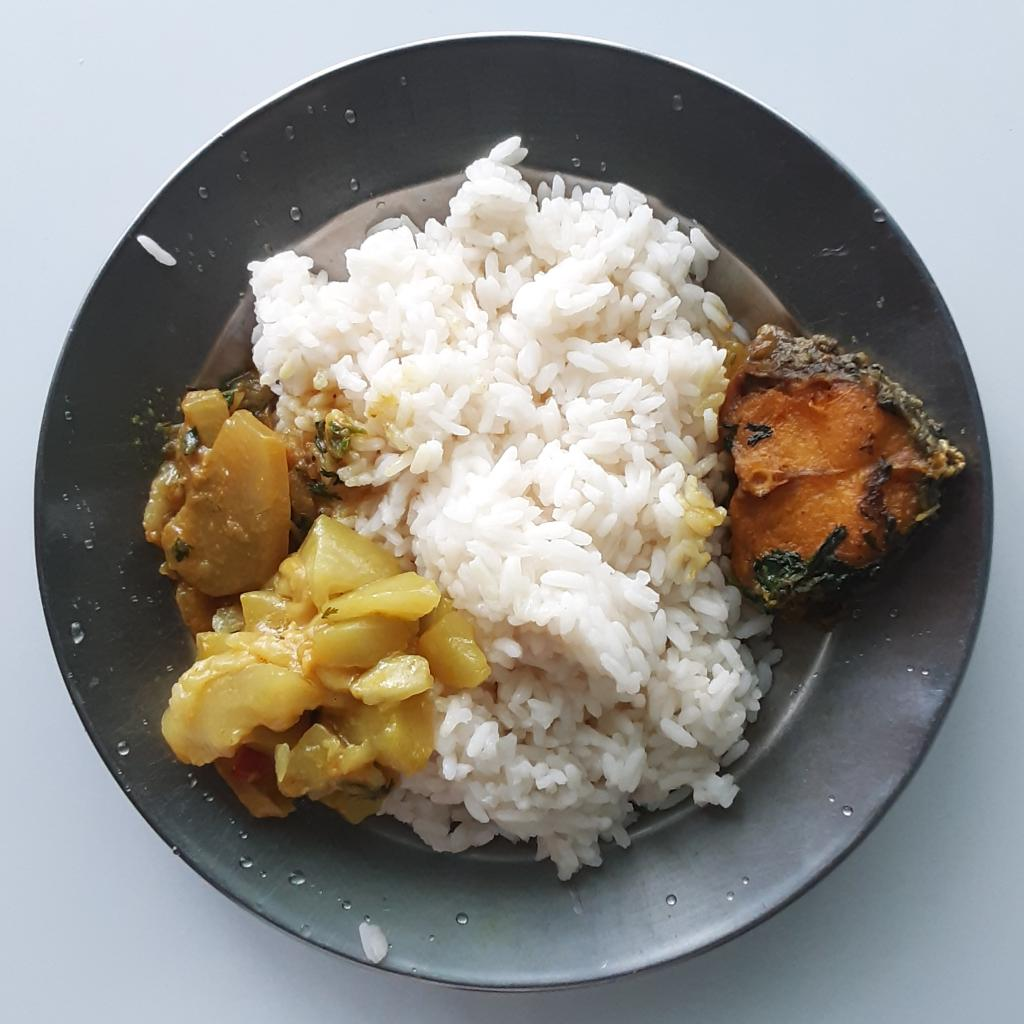dundol: (138, 370, 317, 644)
fish: (724, 319, 964, 618)
lau: (152, 524, 484, 822)
rice: (247, 137, 784, 884)
